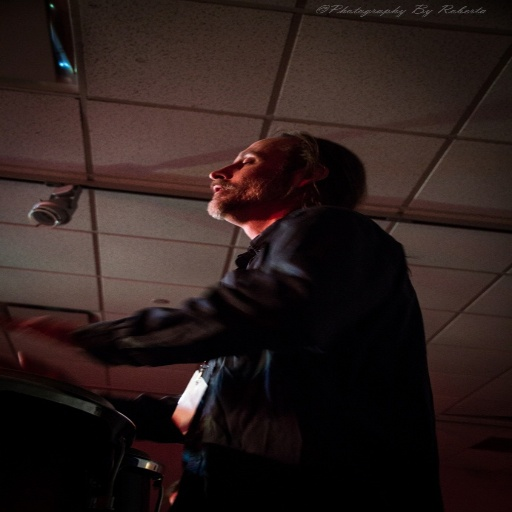hand: (17, 313, 86, 360)
